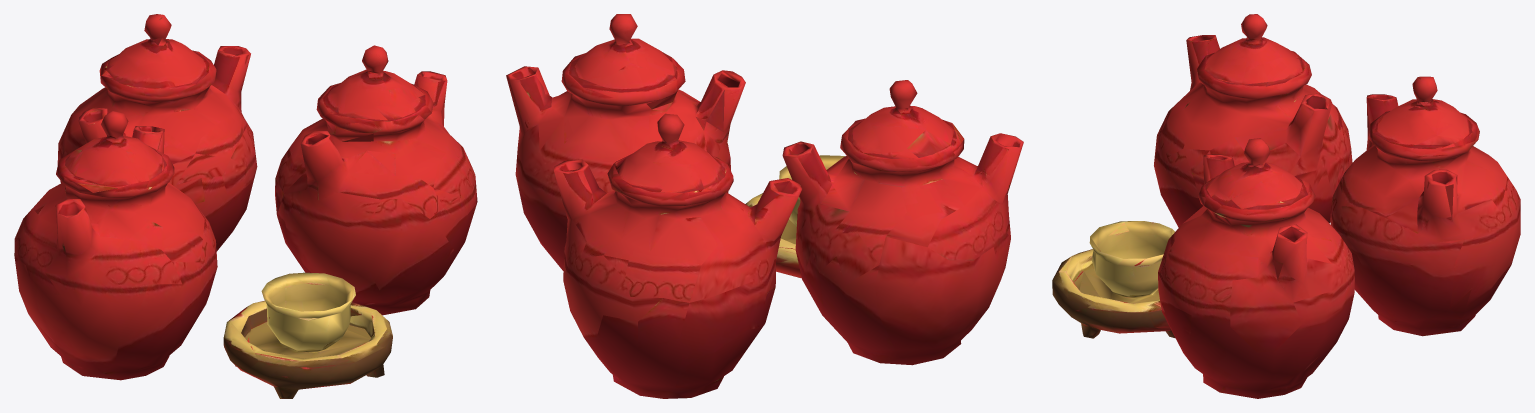
File: matka_pots.glb
The picture shows the model from 3 angles, left to right: view 1: azimuth 30°, elevation 25°; view 2: azimuth 150°, elevation 25°; view 3: azimuth 270°, elevation 25°; orthographic projection. The views are drawn at different scales.
Visible parts, largest first — view 1: matka_pots; view 2: matka_pots; view 3: matka_pots.
Boxes of the visible parts, left/top/right/bottom form: matka_pots: left=14, top=14, right=477, bottom=398; matka_pots: left=506, top=14, right=1023, bottom=398; matka_pots: left=1052, top=14, right=1520, bottom=398.
Bounding box in the file's own units: 1 × 0.5337 × 0.9531.
1 material, 1 textured.
